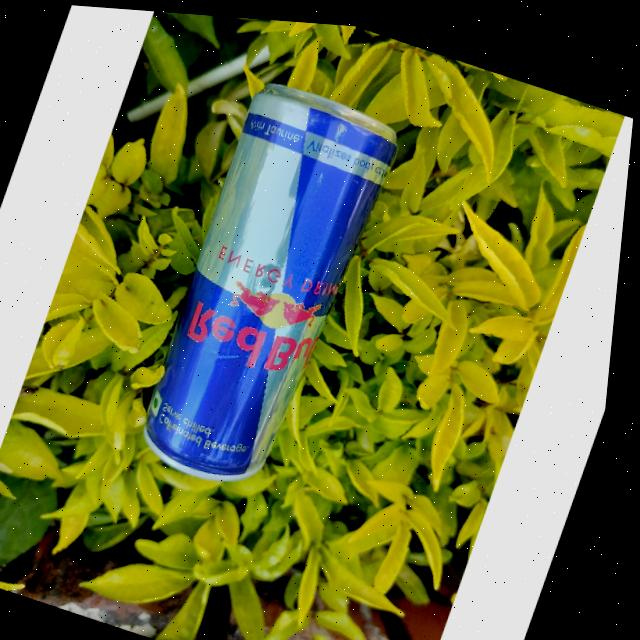Redbull: (131, 65, 407, 494)
